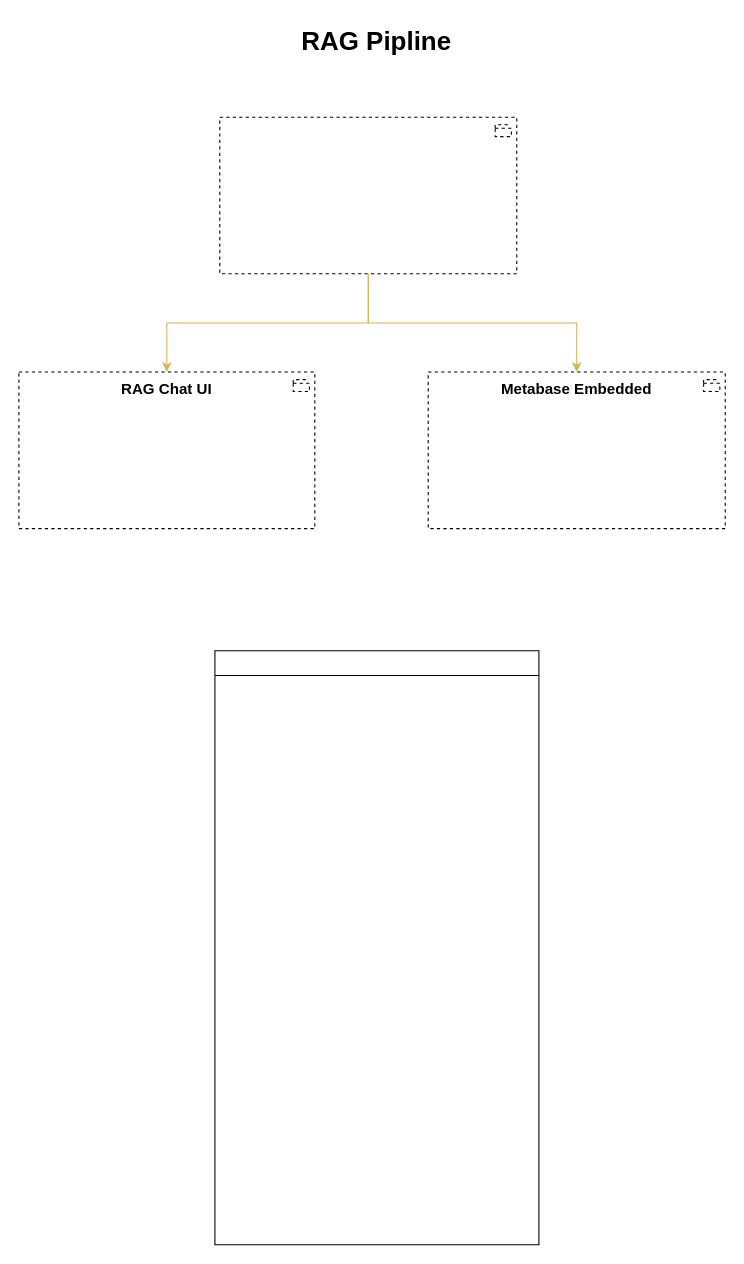
Image size: 744x1264. Some labels were removed from this diagram. The centre of each missing label's shape, as x and y in pixels:
FASTAPI Backend: the point at 376,947
Web Fronted: the point at 368,195
